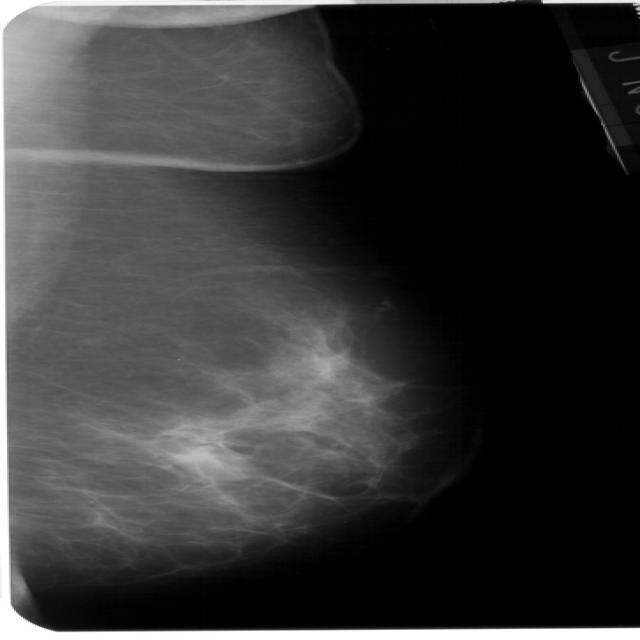tumour: (157, 440, 229, 471)
